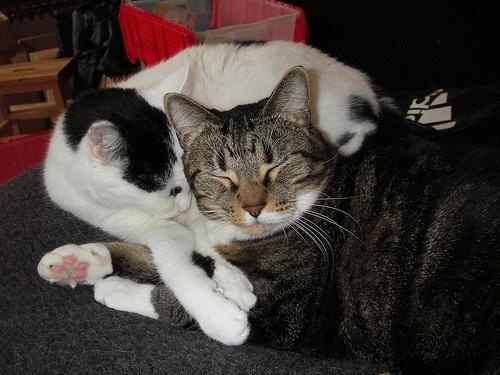cat: (36, 67, 500, 375), (44, 39, 398, 344)
